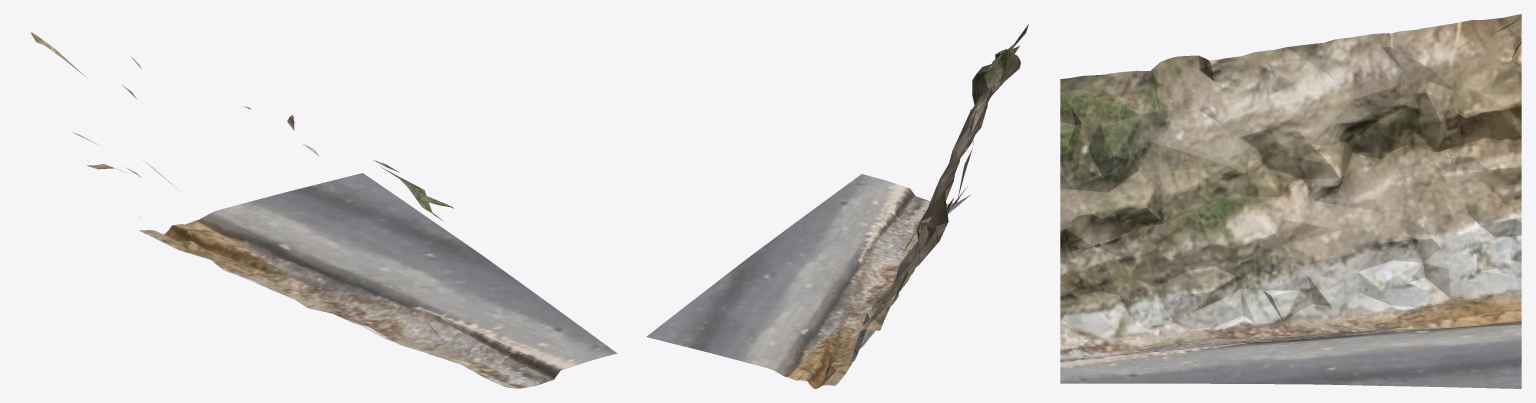
3 renders of one model, left to right at view 1: azimuth 30°, elevation 25°; view 2: azimuth 150°, elevation 25°; view 3: azimuth 270°, elevation 25°, orthographic. The views are drawn at different scales.
Size of the model in its own units: 4.66 by 3.29 by 5.9.
Materials: 3 (3 with a texture image).
